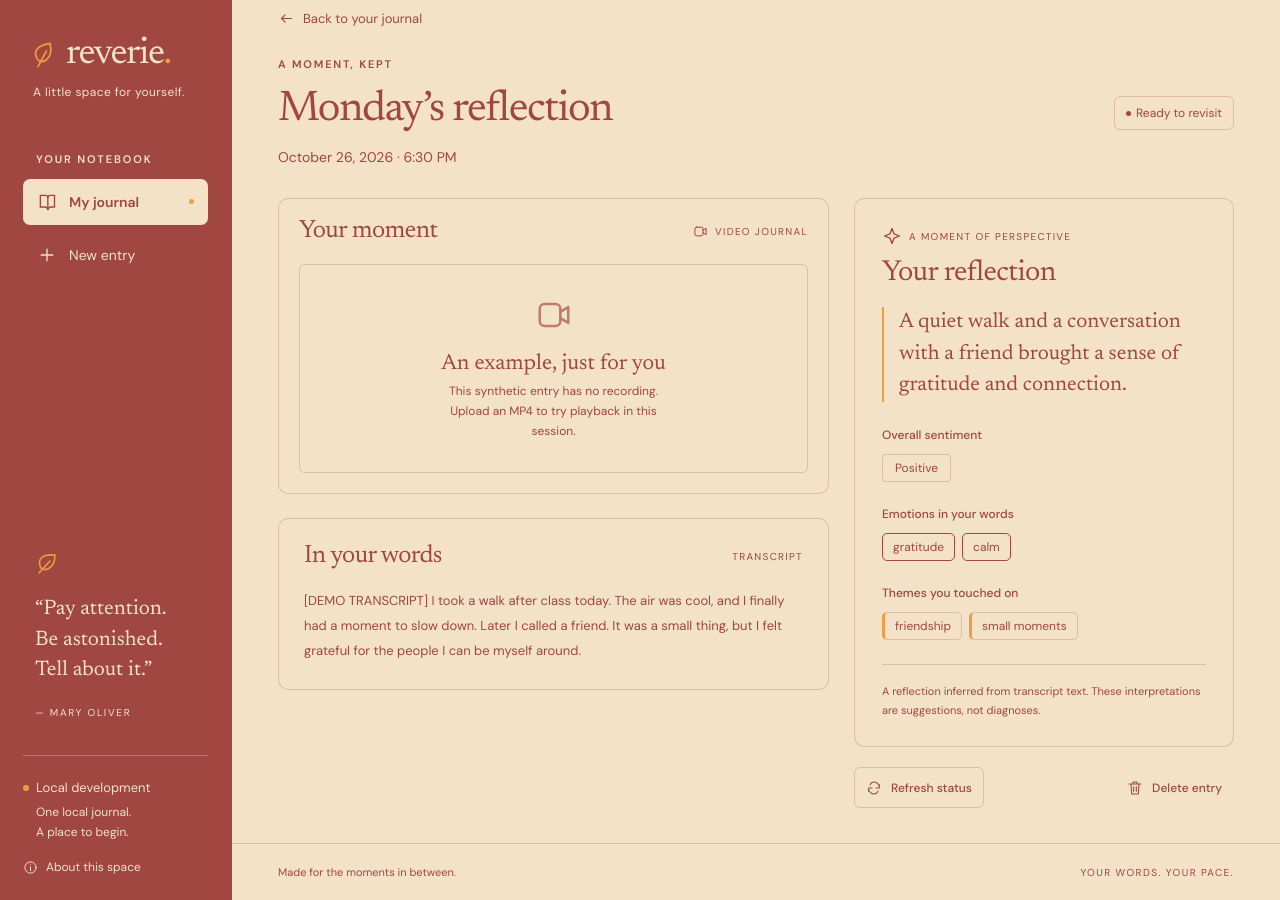
journal screens › shows completed detail with transcript, sentiment, emotions, themes, summary, and a video region
The width and height of the screenshot is (1280, 900).
(page scrolled)
Expected: the text "[DEMO TRANSCRIPT] I took a walk after class today. The air was cool, and I finally had a moment to slow down. Later I ca" is shown, [304,592,788,659]
Expected: the text "A quiet walk and a conversation with a friend brought a sense of gratitude and connection." is shown, [899,312,1181,396]
Click the button "Delete entry": (1175, 788) [1115,767,1234,808]
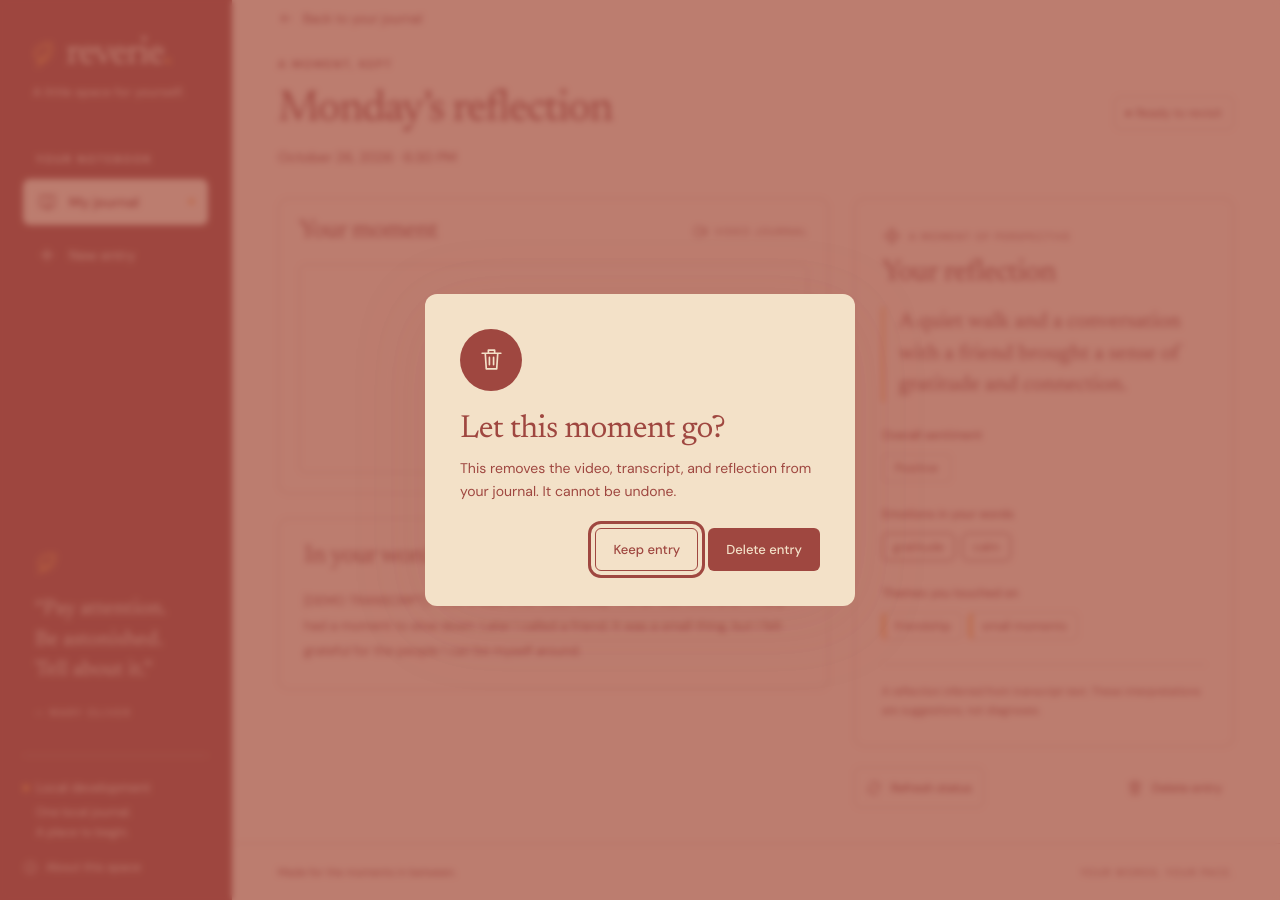
Expected: the dialog "Let this moment go?" is shown
Press Escape in the dialog, box [425,294,855,606]
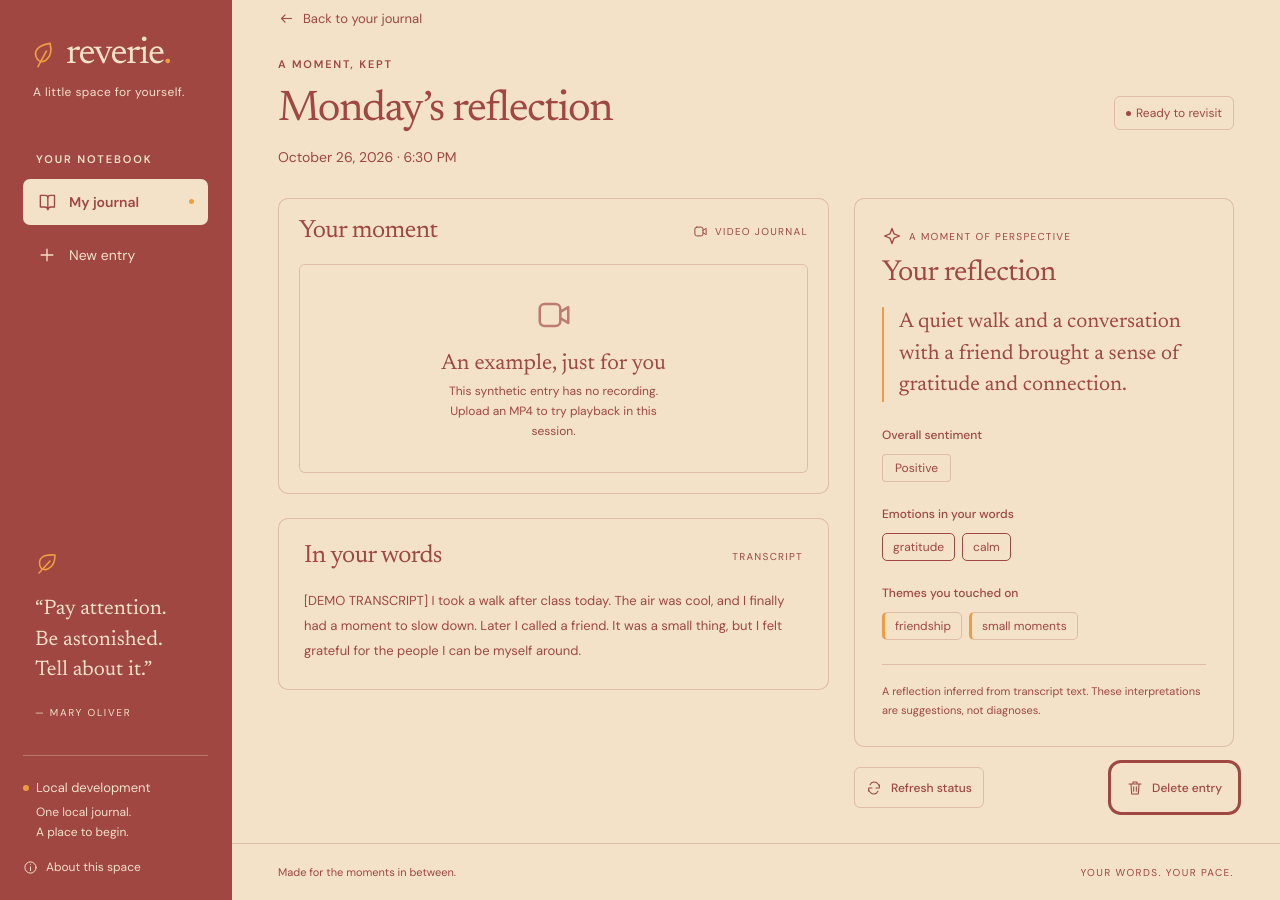
Expected: the dialog is gone
